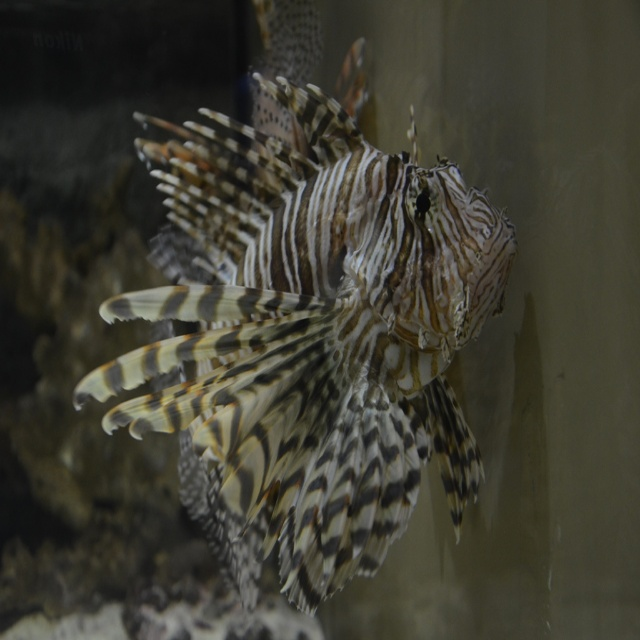Fish: (73, 1, 518, 621)
